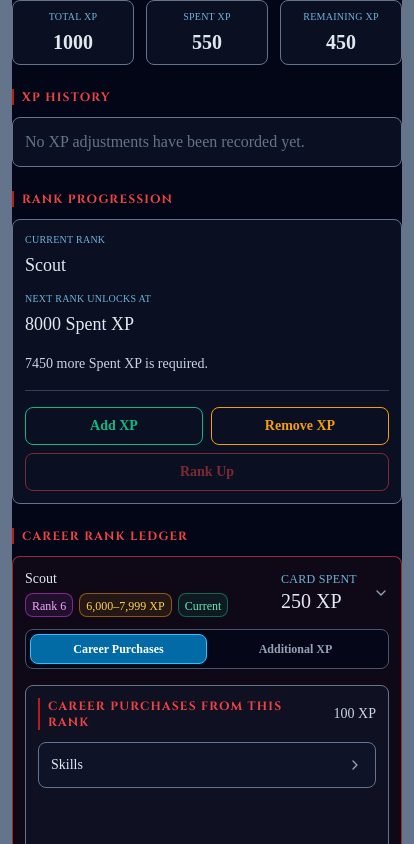
ExperienceTab named Career Rank ledger › switches between the mobile Rank purchase panels without equal-height side cards
Step 1. Click the tab "Additional XP" → (296, 649), box [207,634,384,664]
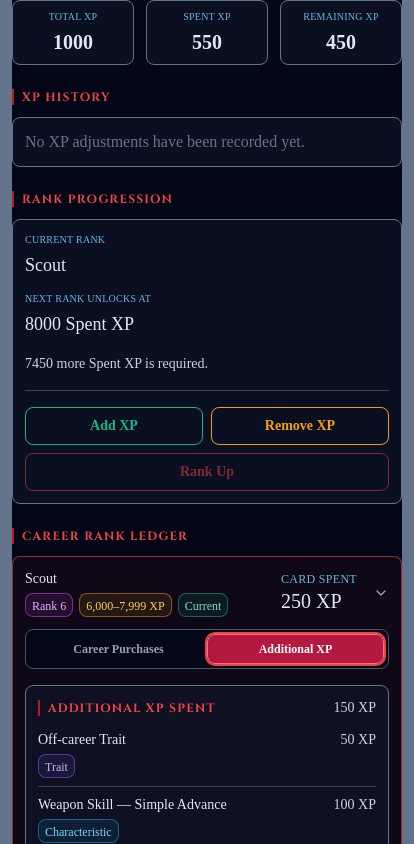
Expected: the text "Weapon Skill — Simple Advance" is shown, [38,795,227,815]
Expected: the text "Off-career Trait" is shown, [38,730,126,750]
Expected: the heading "Additional XP Spent" is shown, [38,700,216,716]
